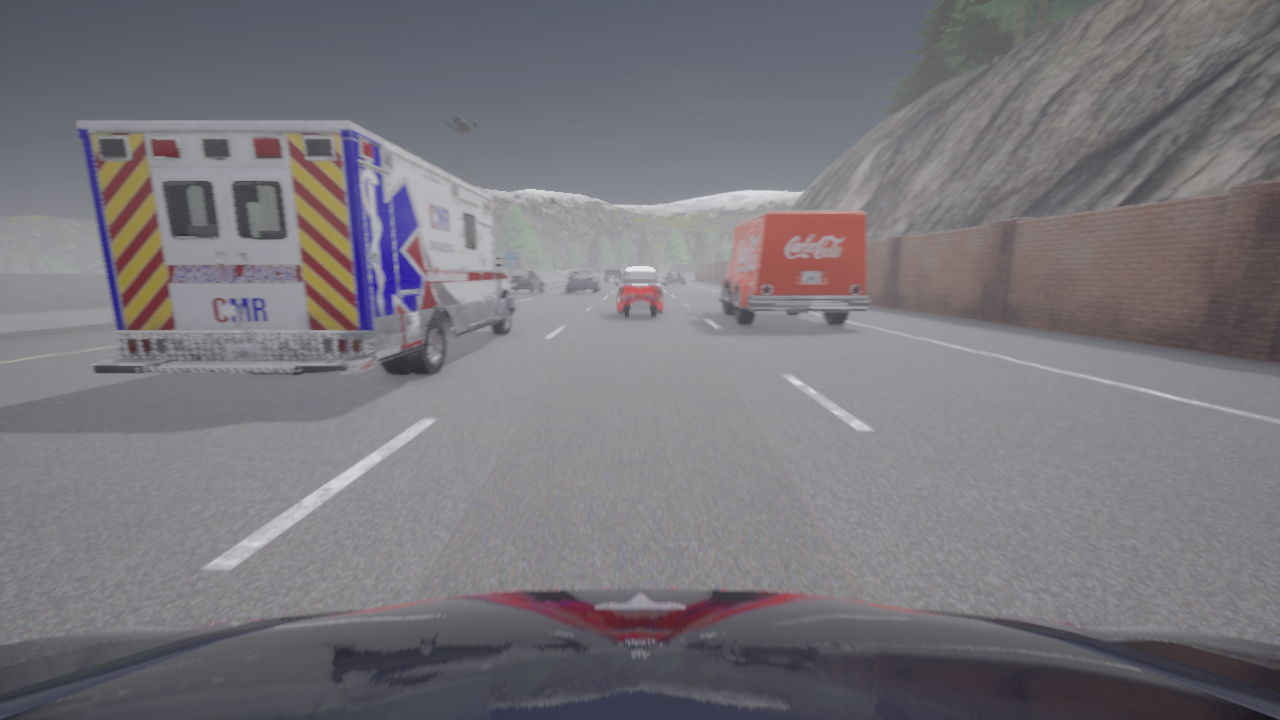cyclist: (0, 588, 1279, 719), (76, 122, 518, 375), (716, 211, 869, 325), (615, 267, 664, 318), (508, 269, 543, 294), (565, 269, 600, 293), (663, 269, 684, 285), (602, 266, 622, 282)
